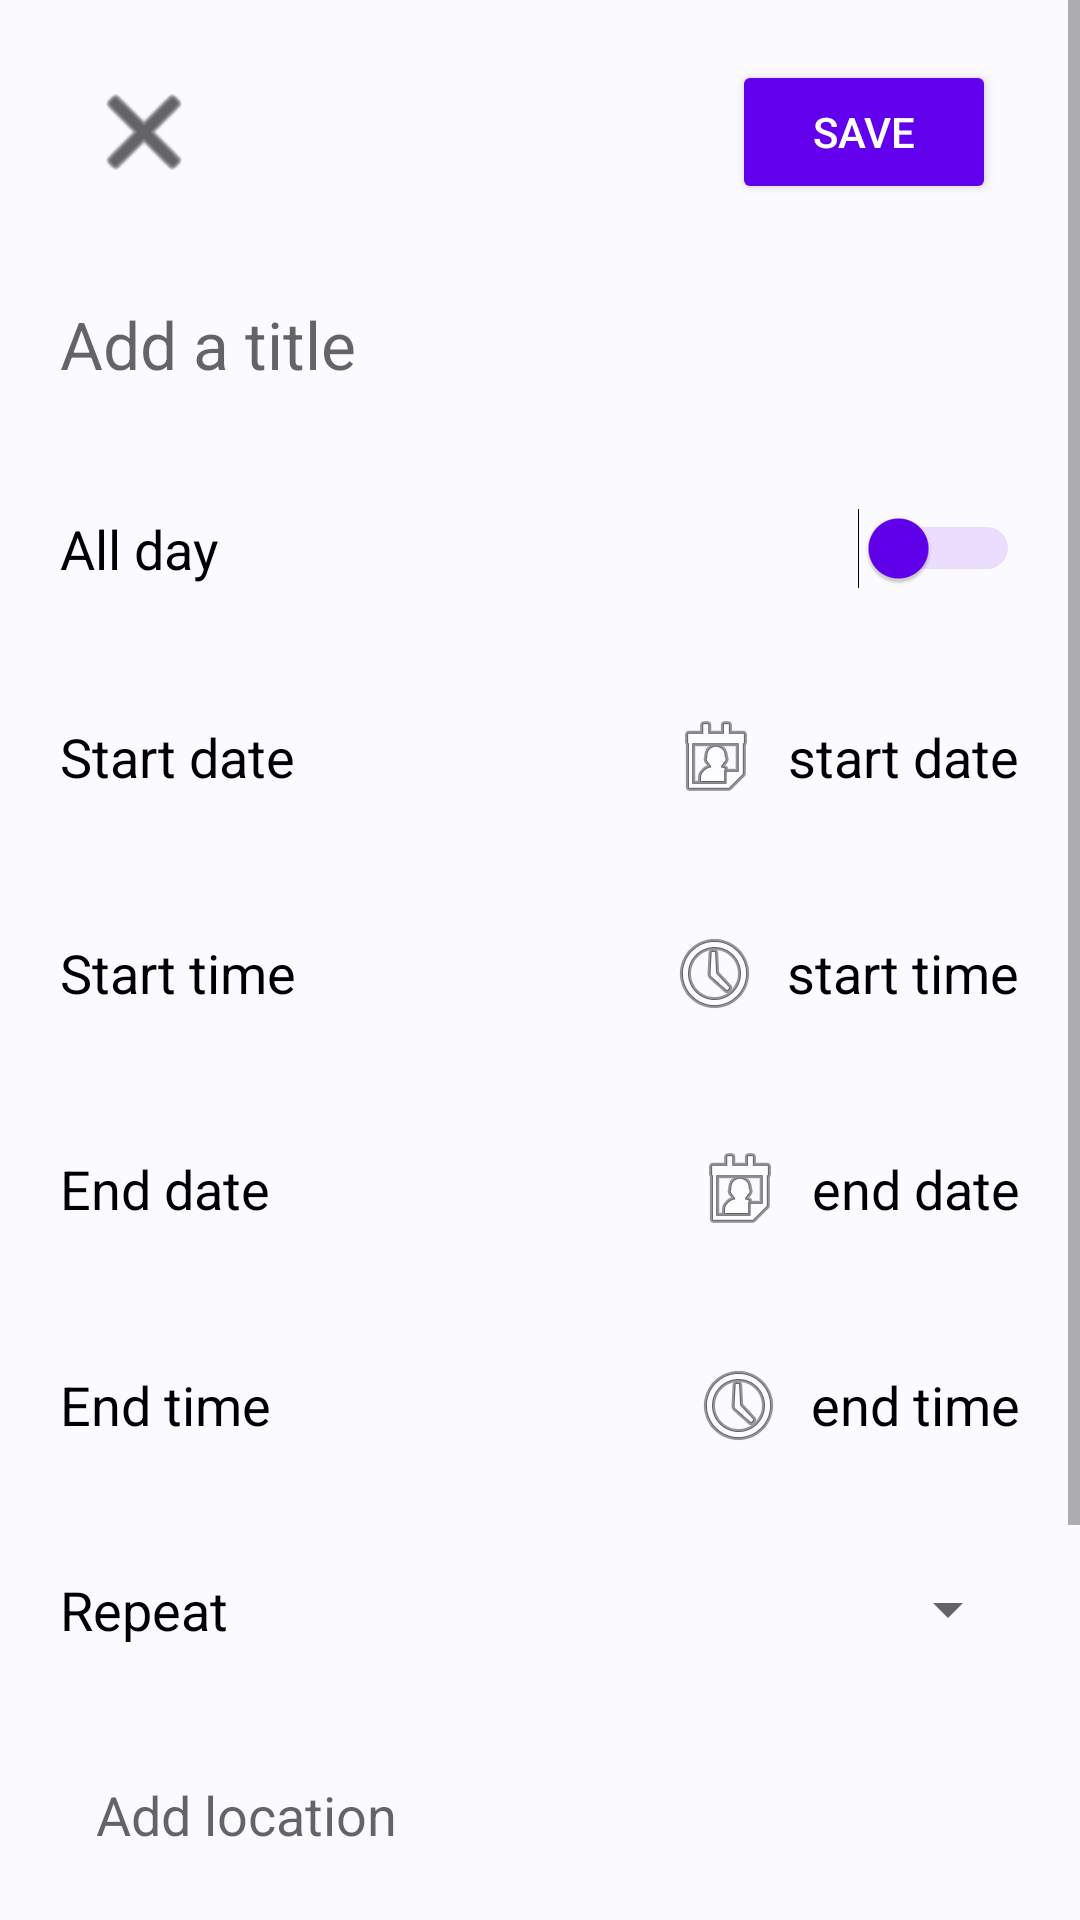

Named icons in this screenshot (1080 x 1920) and their centers, (x,y):
calendar: (716,756), (740,1188)
Close: (144,132)
